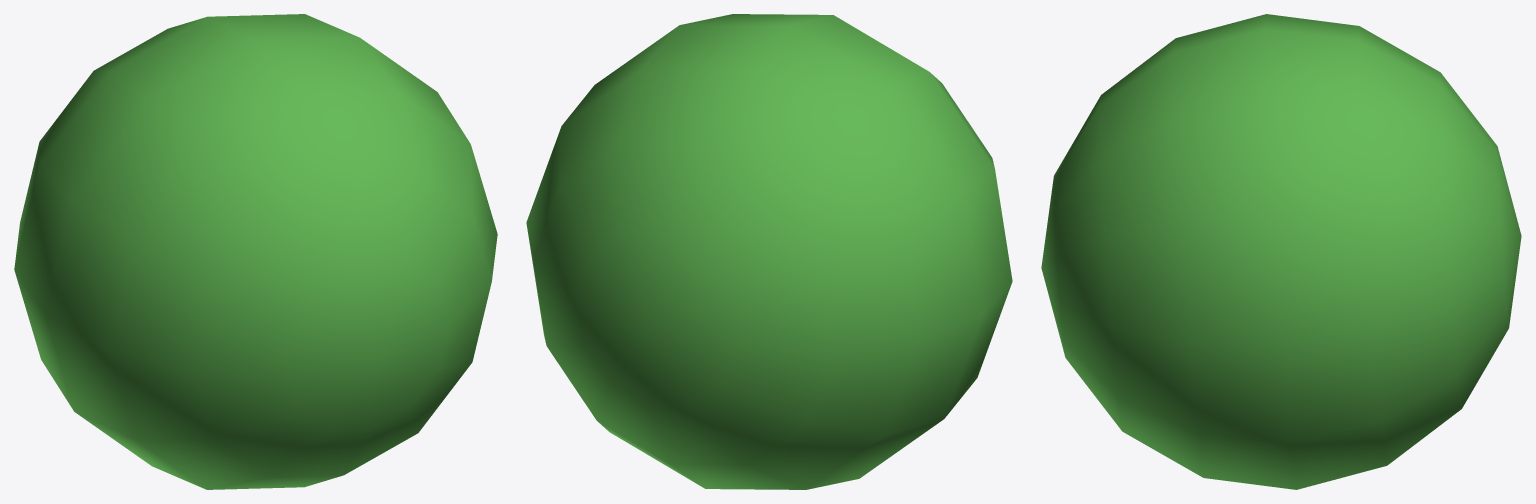
The model's file is linfatico-lateral-lacunar-node-r.glb.
The picture shows the model from 3 angles, left to right: view 1: azimuth 30°, elevation 25°; view 2: azimuth 150°, elevation 25°; view 3: azimuth 270°, elevation 25°; orthographic projection. The views are drawn at different scales.
Visible parts, largest first — view 1: (Lateral lacunar node).r; view 2: (Lateral lacunar node).r; view 3: (Lateral lacunar node).r.
Boxes of the visible parts, x1=… form: (Lateral lacunar node).r: x1=14, y1=14, x2=497, y2=489; (Lateral lacunar node).r: x1=526, y1=14, x2=1012, y2=489; (Lateral lacunar node).r: x1=1041, y1=14, x2=1521, y2=489.
Size of the model in its own units: 0.0026 by 0.00259 by 0.00259.
